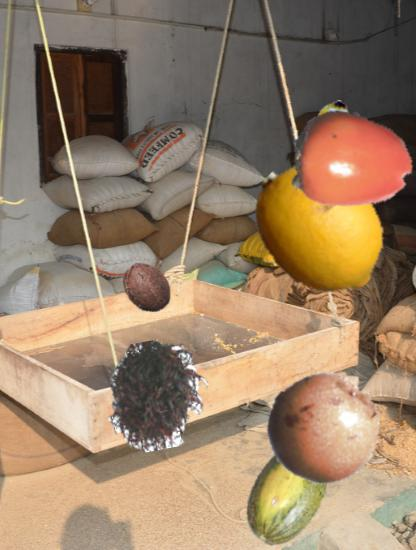Banana: (285, 99, 375, 189)
Cocos: (120, 260, 175, 315)
Granadilla: (265, 370, 380, 485)
Kaki: (288, 96, 415, 223)
Lemon: (247, 155, 392, 300)
Melon: (234, 443, 339, 548)
Rambutan: (102, 341, 211, 450)
